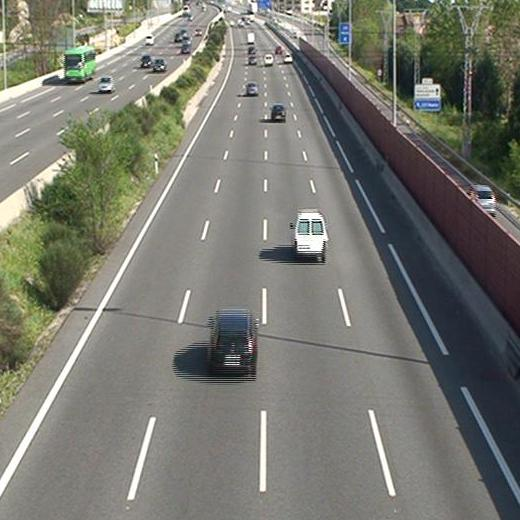car: (209, 314, 255, 372), (270, 104, 286, 122), (245, 82, 258, 96), (247, 56, 258, 66), (283, 53, 292, 63)
van: (292, 213, 326, 258), (263, 54, 274, 66)
